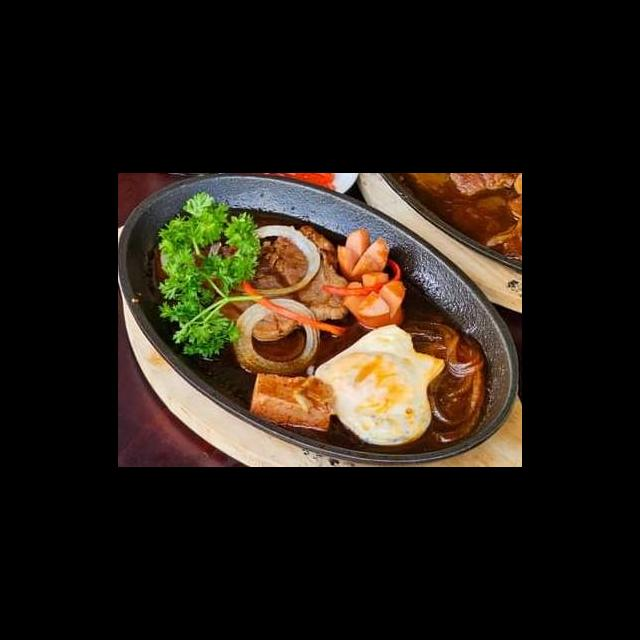thit bo: (286, 296, 462, 417), (303, 203, 394, 272)
trung: (190, 191, 335, 318)
